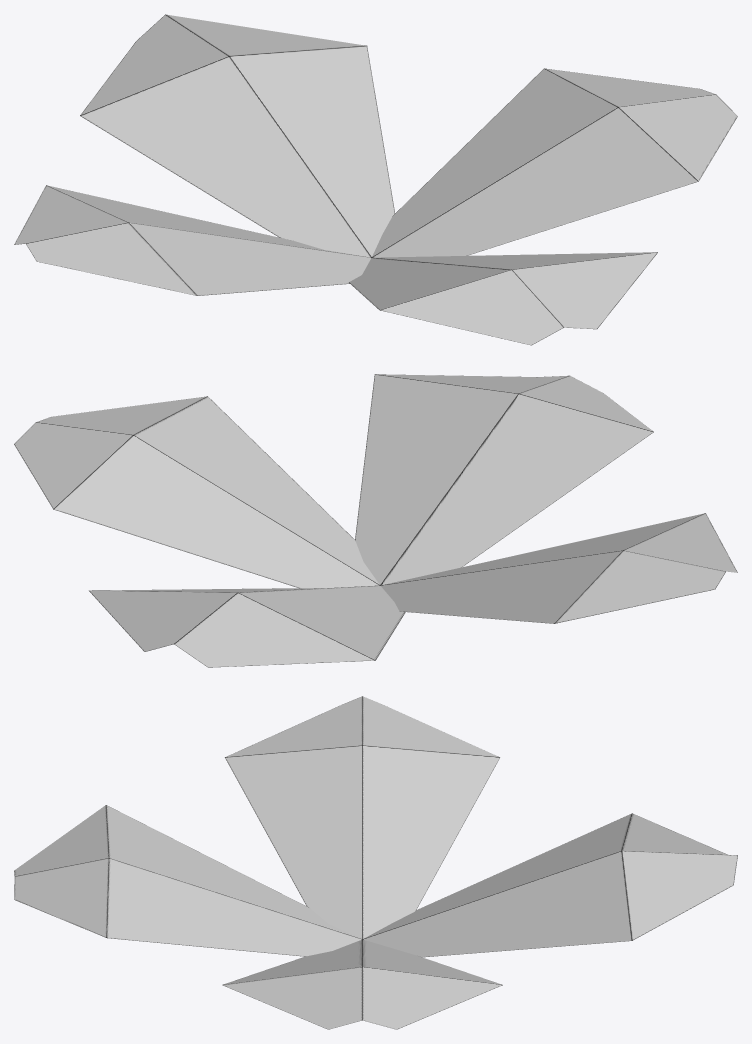
The model's file is Low_Poly_Plant2.fbx.
The picture shows the model from 3 angles, top to bottom: view 1: azimuth 30°, elevation 25°; view 2: azimuth 150°, elevation 25°; view 3: azimuth 270°, elevation 25°; orthographic projection. The views are drawn at different scales.
Visible parts, largest first — view 1: Plant1; view 2: Plant1; view 3: Plant1.
Part boxes in pixels (<box>): Plant1: <box>14,14,737,345</box>; Plant1: <box>14,374,737,667</box>; Plant1: <box>14,696,737,1029</box>.
Bounding box in the file's own units: 183 × 27.05 × 182.
